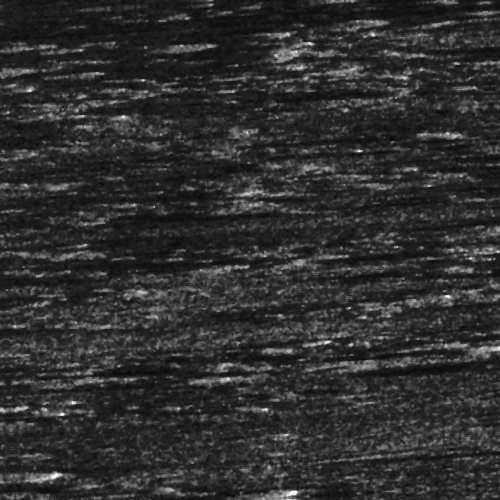object: (402, 351, 500, 366), (16, 491, 121, 500), (222, 489, 305, 498), (0, 455, 61, 466), (216, 184, 289, 193), (16, 347, 89, 356), (391, 140, 484, 147), (6, 366, 99, 373), (147, 38, 240, 45), (434, 257, 500, 266), (108, 371, 191, 378), (427, 273, 480, 282), (492, 334, 500, 343)
shadow: (297, 351, 480, 366), (0, 489, 263, 498), (0, 184, 252, 193), (349, 257, 476, 266), (327, 273, 453, 282), (345, 461, 500, 468), (0, 371, 149, 378), (392, 334, 500, 343), (301, 140, 437, 147), (0, 491, 68, 500), (119, 38, 193, 45), (0, 347, 53, 356), (0, 366, 53, 373)
